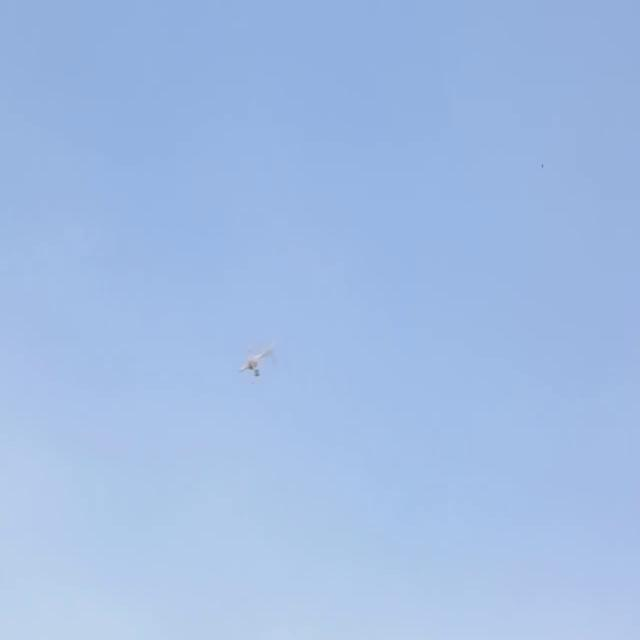drone: (232, 327, 278, 389)
